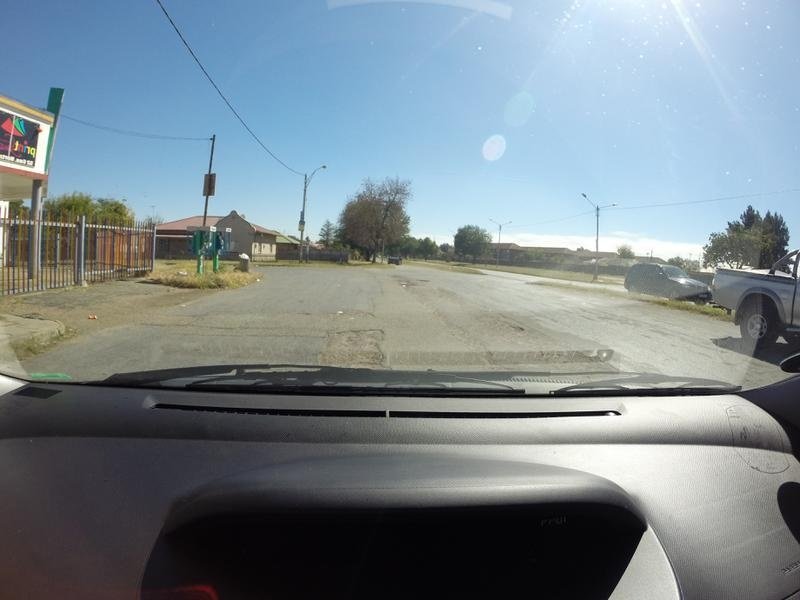pothole: (319, 328, 386, 363), (501, 322, 527, 333), (294, 309, 312, 319), (411, 277, 431, 282)
